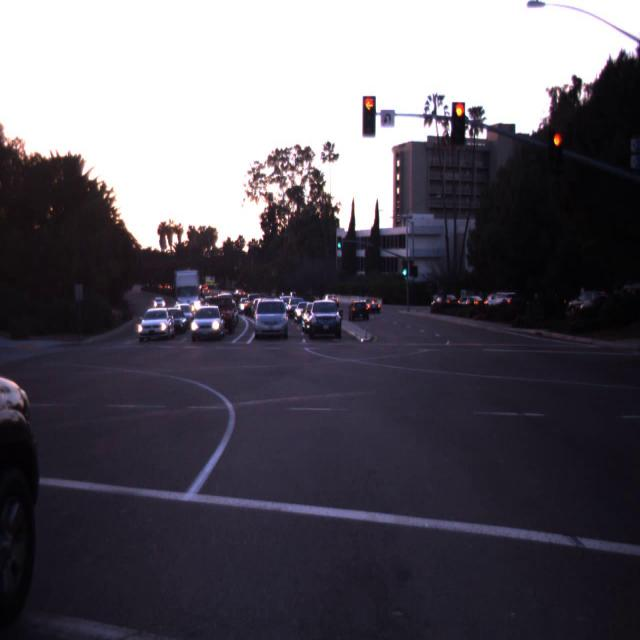kirmizi: (452, 102, 465, 145), (362, 97, 375, 136)
yesil: (402, 261, 408, 277), (337, 235, 342, 250)
